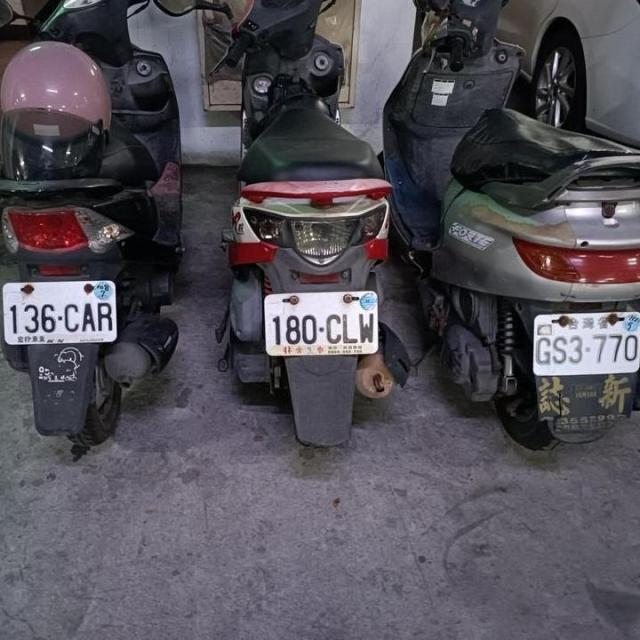W: (263, 287, 379, 356), (2, 277, 118, 346), (529, 306, 640, 378)
